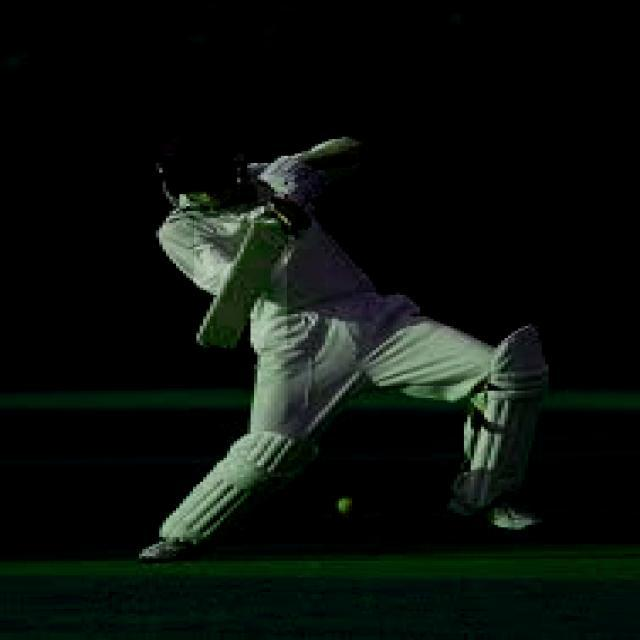bat: (194, 213, 280, 355)
toe: (200, 334, 233, 353)
